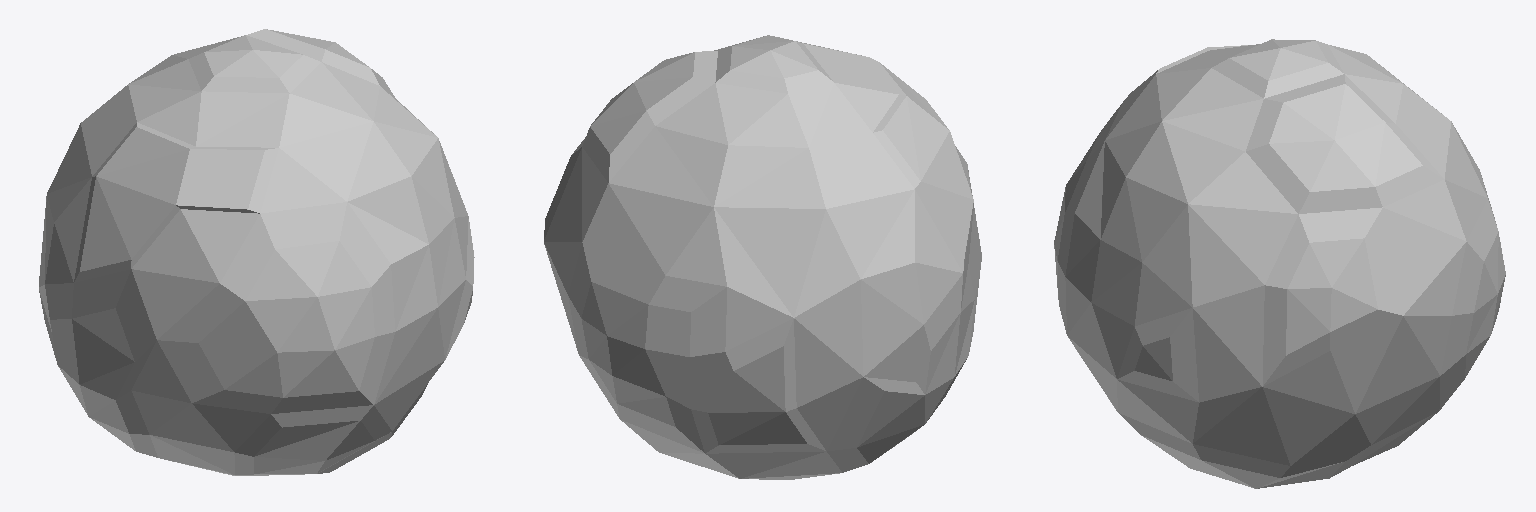
The model's file is Bola04.mtl.obj.
The picture shows the model from 3 angles: view 1: azimuth 30°, elevation 25°; view 2: azimuth 150°, elevation 25°; view 3: azimuth 270°, elevation 25°; orthographic projection.
Parts seen in each view (by area): view 1: Sphere.001; view 2: Sphere.001; view 3: Sphere.001.
Boxes of the visible parts, box(x1,y1,x2,y2) form: Sphere.001: box(39, 29, 474, 475); Sphere.001: box(544, 35, 981, 479); Sphere.001: box(1054, 39, 1505, 488).
Size of the model in its own units: 2.01 by 2.1 by 2.09.